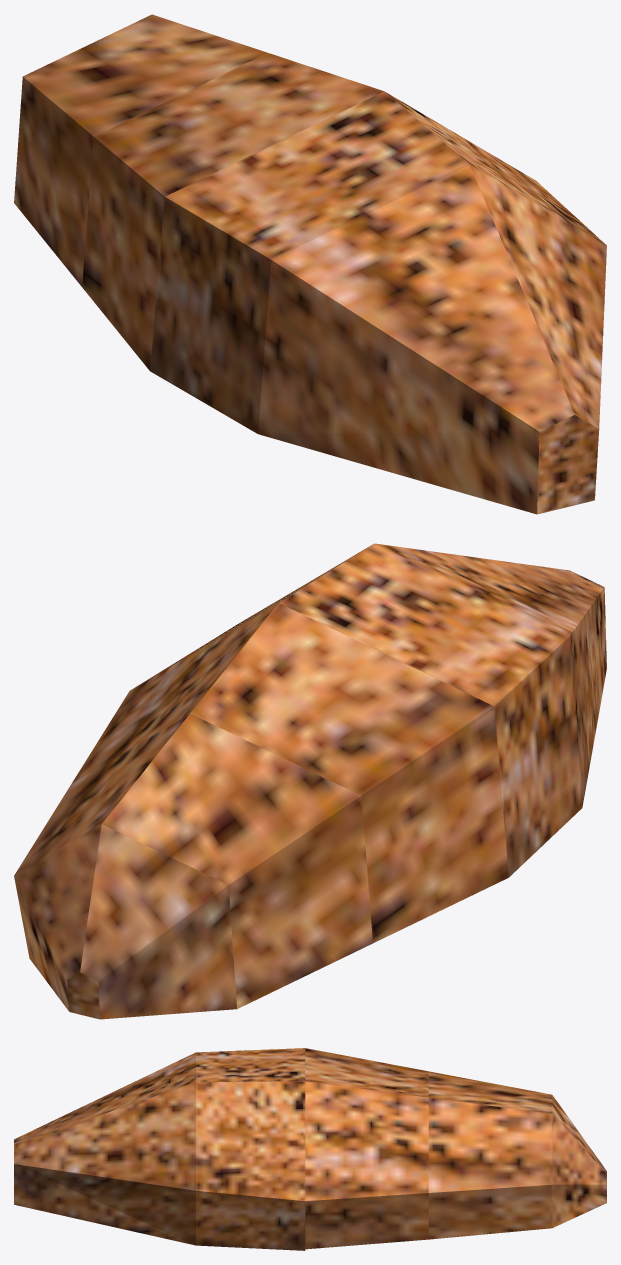
The model's file is Bread01a.obj.
3 renders of one model, top to bottom at view 1: azimuth 30°, elevation 25°; view 2: azimuth 150°, elevation 25°; view 3: azimuth 270°, elevation 25°, orthographic. The views are drawn at different scales.
Parts seen in each view (by area): view 1: Bread01a; view 2: Bread01a; view 3: Bread01a.
Boxes of the visible parts, x1,y1,x2,y2 form: Bread01a: [14, 14, 606, 514]; Bread01a: [14, 543, 606, 1019]; Bread01a: [14, 1048, 606, 1250].
Size of the model in its own units: 0.1672 by 0.0921 by 0.3715.
